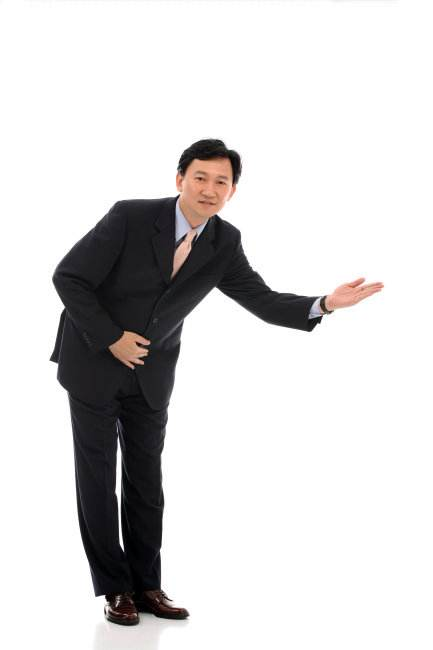no-phone: (329, 275, 386, 308)
